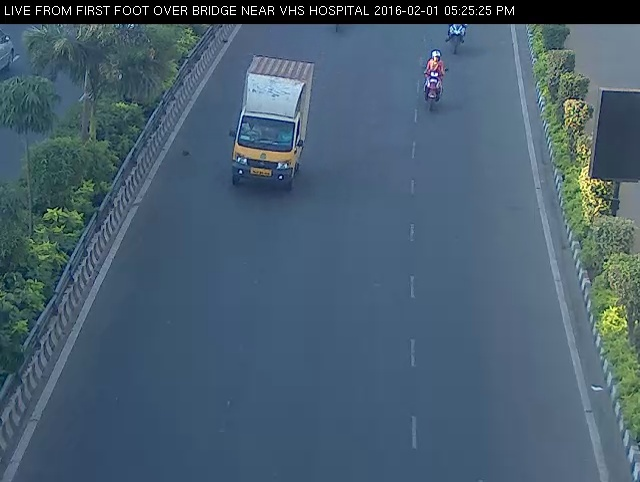Auto: (217, 51, 323, 204)
Person: (419, 45, 448, 117), (438, 20, 478, 59)
